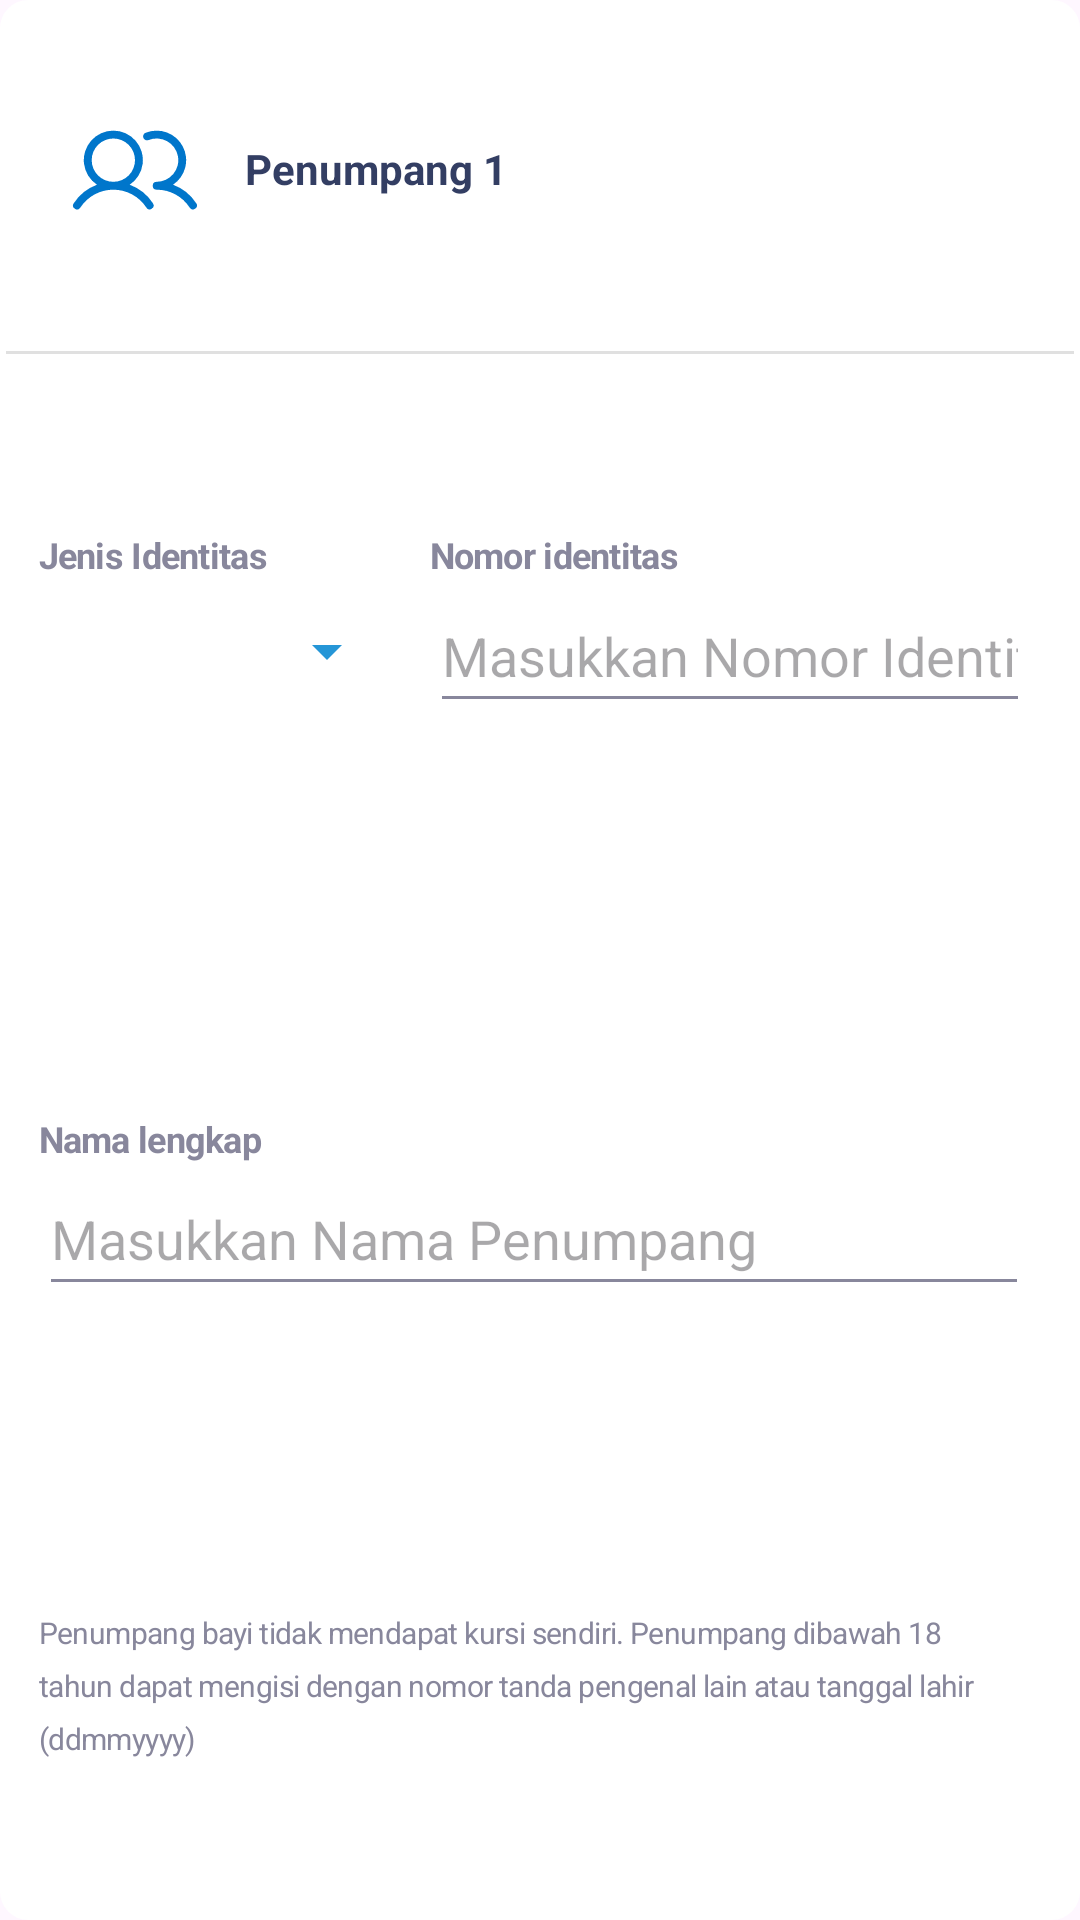

Icon bounding boxes for this 1080w x 1920h phone screenshot, format {"left": x1, "top": y1, "right": x2, "bottom": y2}:
users: {"left": 73, "top": 130, "right": 197, "bottom": 210}
